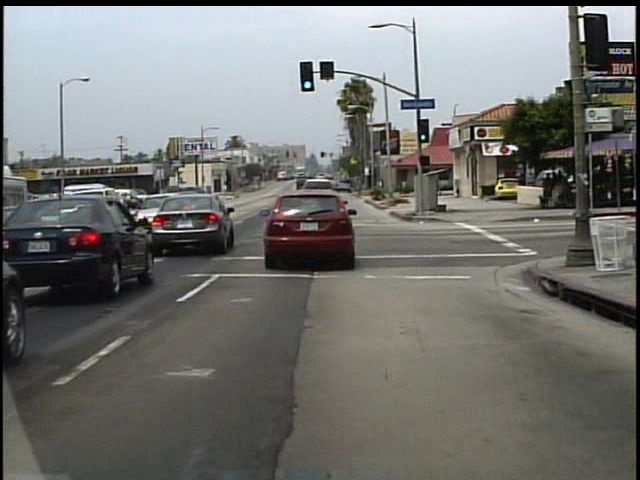person: (515, 171, 529, 206)
